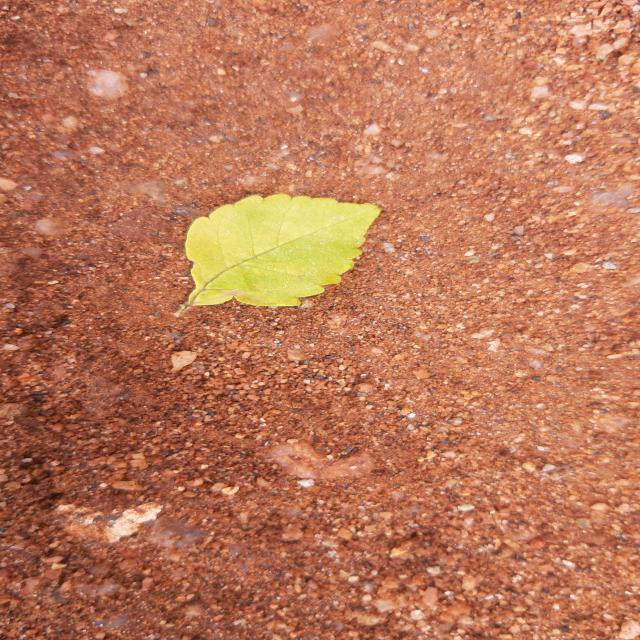defectedtecoma: (187, 194, 380, 295)
tecoma: (176, 194, 380, 316)
